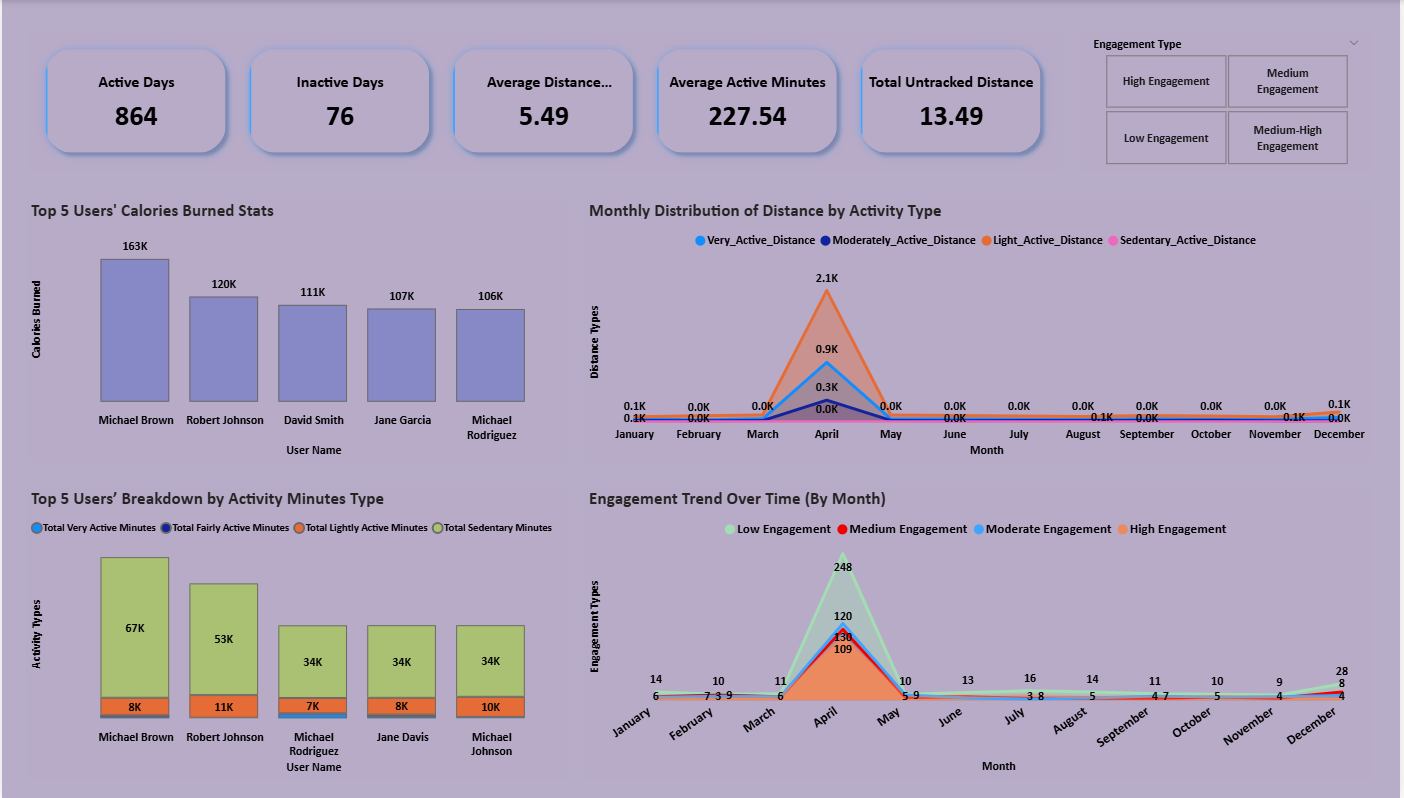

The dashboard page shown, as its layout file describes it:
{"tool":"powerbi","page":{"name":"Activity Performance","canvas":[1400,800],"ordinal":1},"visuals":[{"type":"columnChart","title":"Top 5 Users’ Breakdown by Activity Minutes Type","fields":{"Category":["user_activity.User Name"],"Y":["Sum(user_activity.Very_Active_Minutes)","Sum(user_activity.Fairly_Active_Minutes)","Sum(user_activity.Lightly_Active_Minutes)","Sum(user_activity.Sedentary_Minutes)"]},"box":[24,488.1,542.2,291.4],"z":1000},{"type":"areaChart","title":"Engagement Trend Over Time (By Month)","fields":{"Category":["user_activity.Date.Variation.Date Hierarchy.Month"],"Y":["user_activity.Low Engagement","user_activity.Medium Engagement","user_activity.Moderate Engagement","user_activity.High Engagement"]},"box":[582.7,488.1,788.5,291.4],"z":2000},{"type":"areaChart","title":"Monthly Distribution of Distance by Activity Type","fields":{"Category":["user_activity.Date.Variation.Date Hierarchy.Month"],"Y":["Sum(user_activity.Very_Active_Distance)","Sum(user_activity.Moderately_Active_Distance)","Sum(user_activity.Light_Active_Distance)","Sum(user_activity.Sedentary_Active_Distance)"]},"box":[582.7,199.8,788.5,262.8],"z":3000},{"type":"columnChart","title":"Top 5 Users'' Calories Burned Stats","fields":{"Category":["user_activity.User Name"],"Y":["Sum(user_activity.Calories_Burned)"]},"box":[24,199.8,542.2,262.8],"z":4000},{"type":"cardVisual","fields":{"Data":["user_activity.Active_Days","user_activity.Inactive_Days","Avg(user_activity.Total_Distance)","Avg(user_activity.Active_Minutes)","user_activity.Total Untracked Distance"]},"box":[24.8,31.5,1036.8,139.1],"z":5000},{"type":"slicer","fields":{"Values":["user_activity.Engagement Type"]},"box":[1079.9,31.5,291.4,139.7],"z":8000}]}

Visuals, with their boxes in screenshot pixels (x1, y1, x2, y2), scaled from the page's 1400x800 canvas onto the 1404x798 screenshot:
"Top 5 Users’ Breakdown by Activity Minutes Type" columnChart: box=[24, 487, 568, 778]
"Engagement Trend Over Time (By Month)" areaChart: box=[584, 487, 1375, 778]
"Monthly Distribution of Distance by Activity Type" areaChart: box=[584, 199, 1375, 461]
"Top 5 Users'' Calories Burned Stats" columnChart: box=[24, 199, 568, 461]
cardVisual - user_activity.Active_Days x user_activity.Inactive_Days: box=[25, 31, 1065, 170]
slicer - user_activity.Engagement Type: box=[1083, 31, 1375, 171]
